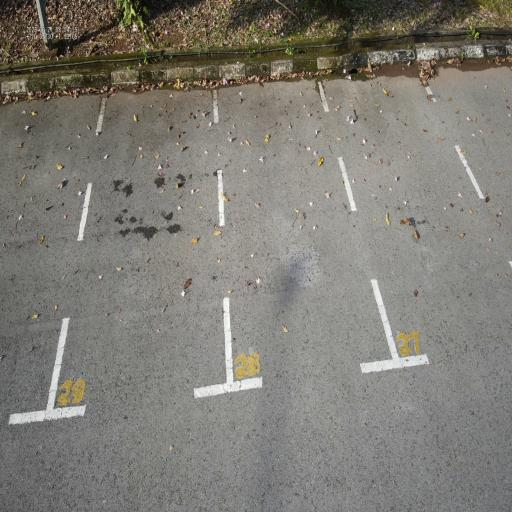Empty: (42, 73, 237, 429), (209, 69, 407, 398)
